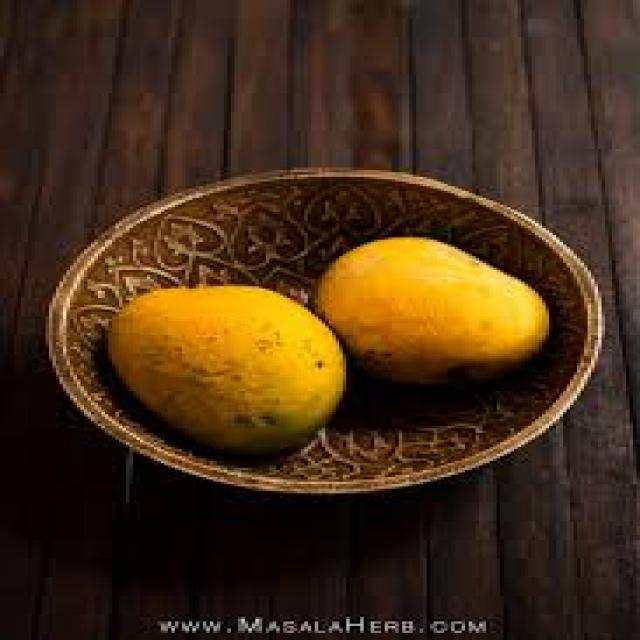mango: (108, 286, 343, 458)
